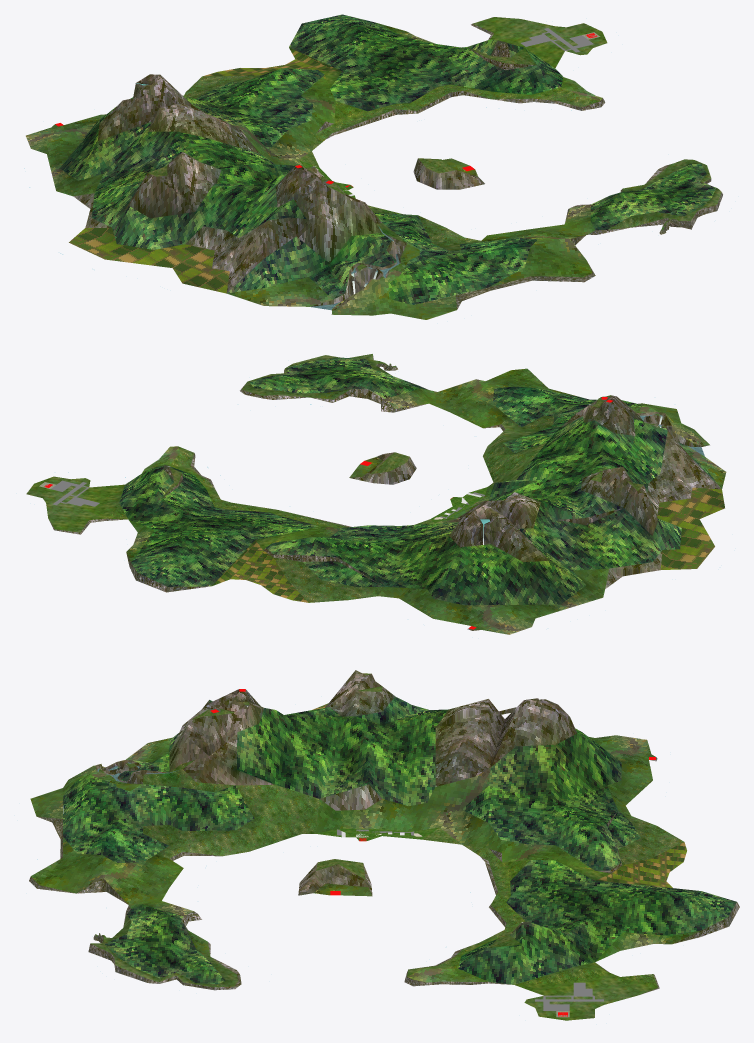
The model's file is uvmd-0047.glb.
3 renders of one model, top to bottom at view 1: azimuth 30°, elevation 25°; view 2: azimuth 150°, elevation 25°; view 3: azimuth 270°, elevation 25°, orthographic. The views are drawn at different scales.
Visible parts, largest first — view 1: uvmd-0047; view 2: uvmd-0047; view 3: uvmd-0047.
Part boxes in pixels (x1,y1,x2,y2): uvmd-0047: (24,14,722,319); uvmd-0047: (26,354,726,634); uvmd-0047: (29,670,739,1020).
Bounding box in the file's own units: 3837 × 502 × 3493.
11 materials, 11 textured.
